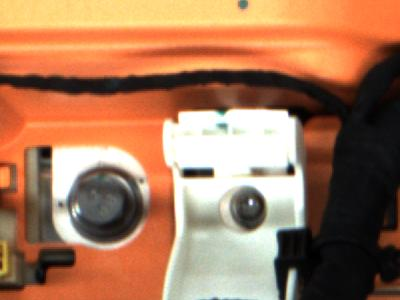nut_b: (66, 157, 150, 244)
